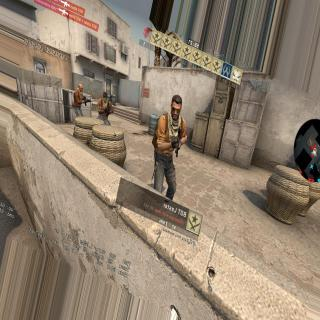T-Body: (150, 88, 189, 202), (97, 91, 113, 125), (71, 82, 87, 116)
T-Head: (170, 94, 182, 120), (102, 95, 108, 102), (78, 84, 83, 90)
